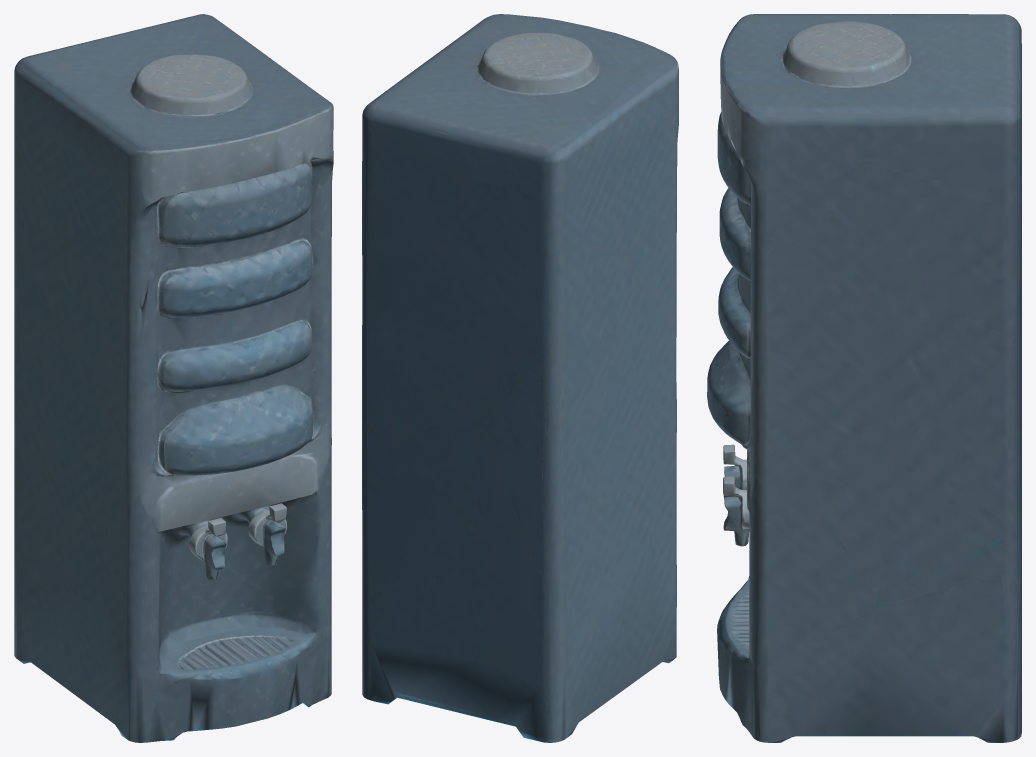
Rendered from docaFountain.glb.
The picture shows the model from 3 angles, left to right: view 1: azimuth 30°, elevation 25°; view 2: azimuth 150°, elevation 25°; view 3: azimuth 270°, elevation 25°; orthographic projection. The views are drawn at different scales.
Bounding box in the file's own units: 0.6534 × 1.9 × 0.8312.
Materials: 1 (1 with a texture image).
